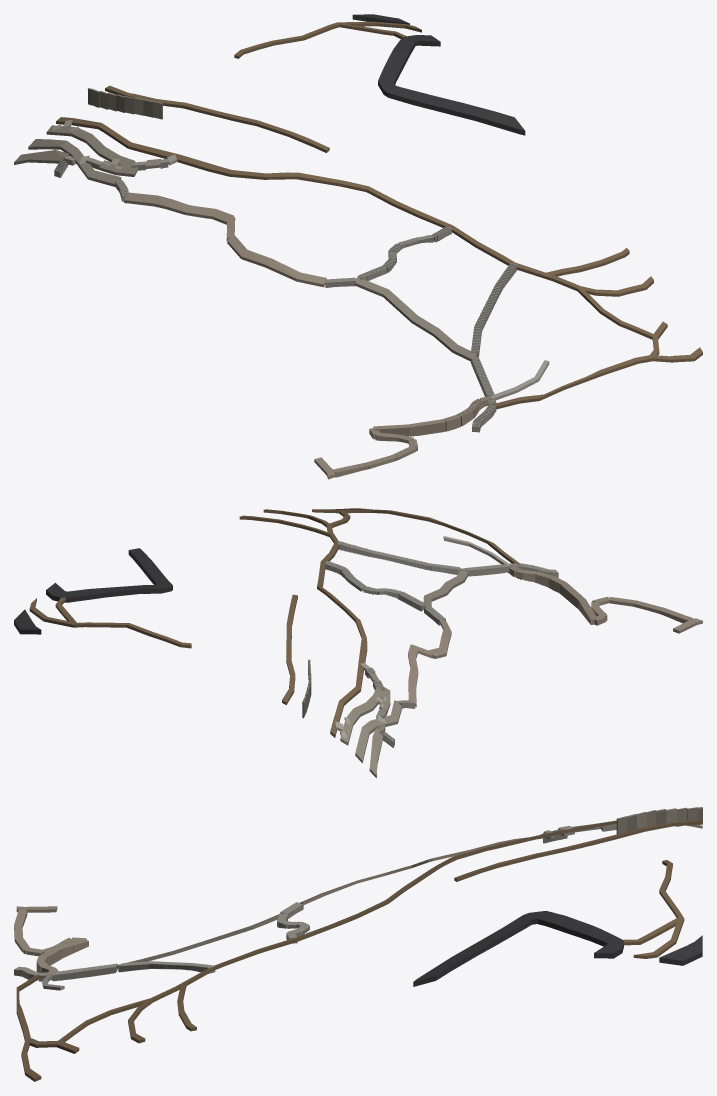
Rendered from 18-218875-118956.a030cfdc.glb.
3 views of the same model, one above another, from view 1: azimuth 30°, elevation 25°; view 2: azimuth 150°, elevation 25°; view 3: azimuth 270°, elevation 25° (orthographic). The views are drawn at different scales.
Size of the model in its own units: 100 by 38.59 by 146.
